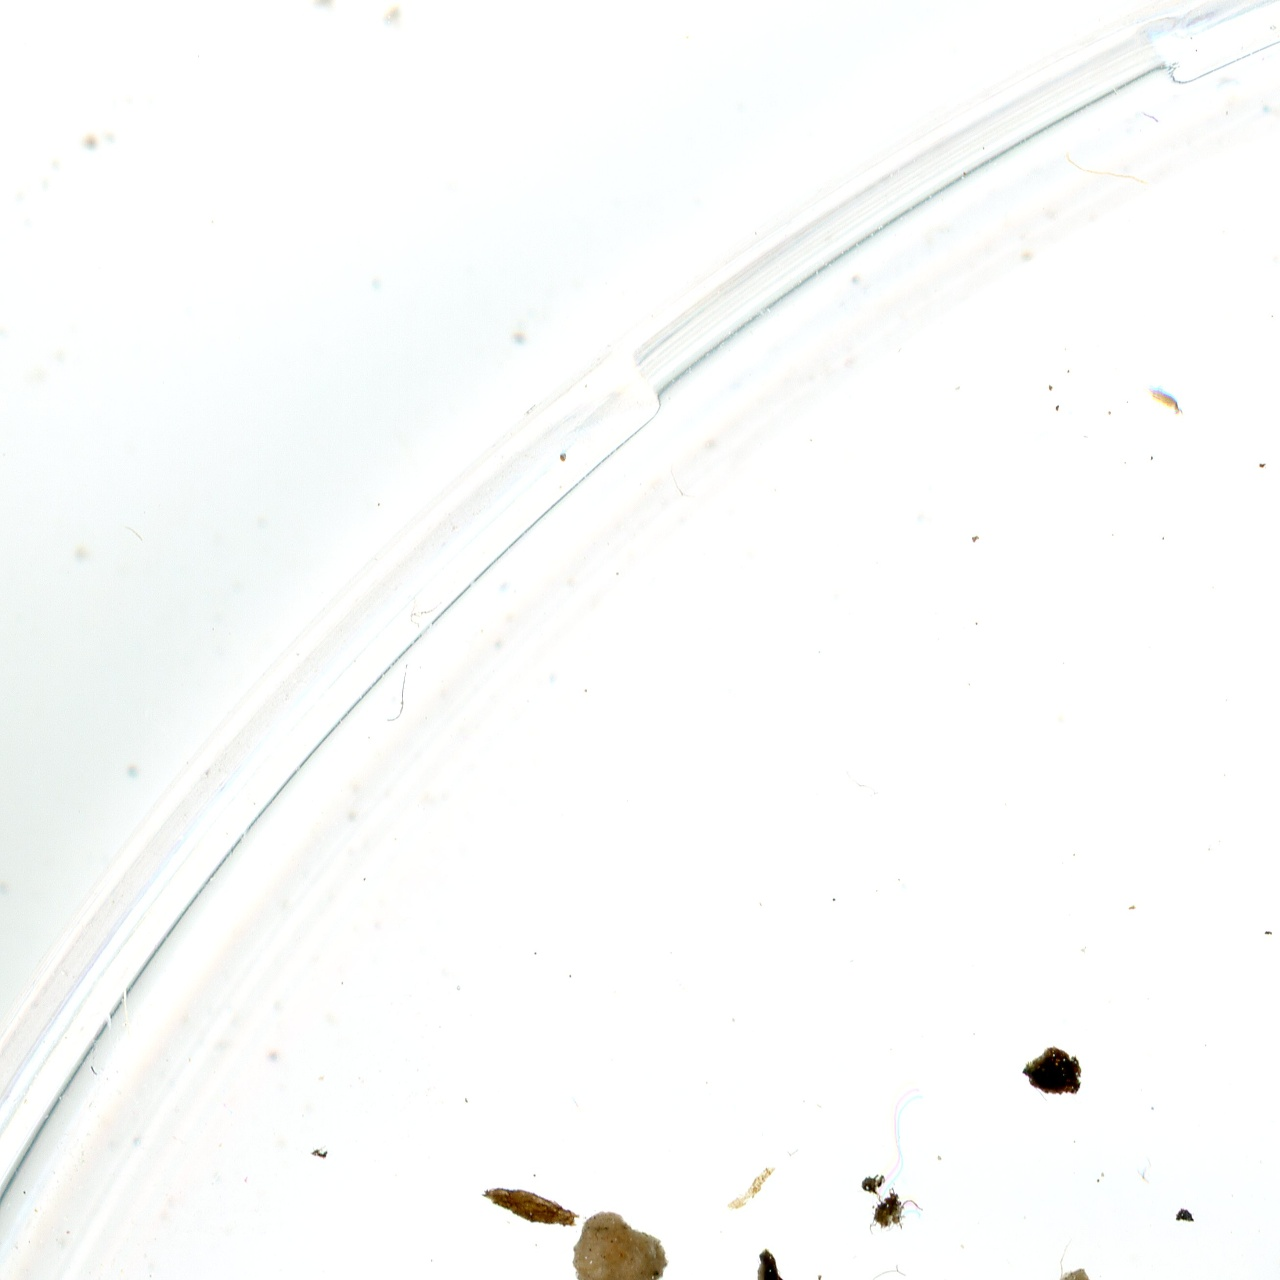arthropod: (1133, 374, 1192, 421)
